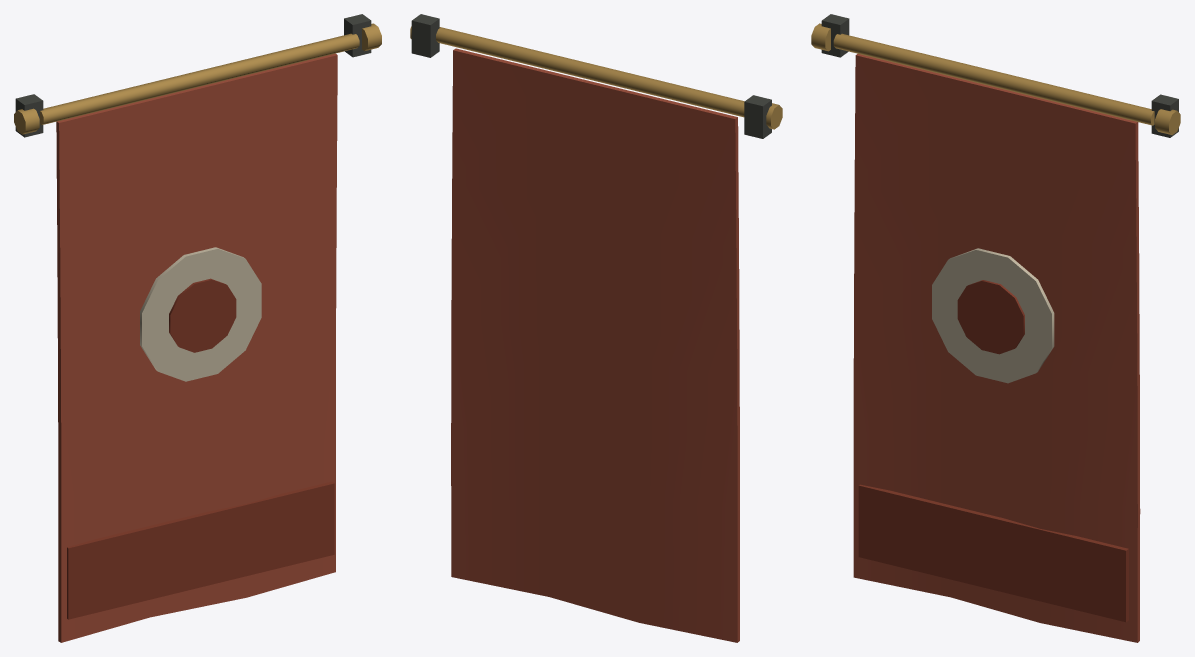
File: banner.glb
The picture shows the model from 3 angles, left to right: view 1: azimuth 30°, elevation 25°; view 2: azimuth 150°, elevation 25°; view 3: azimuth 330°, elevation 25°; orthographic projection.
Visible parts, largest first — view 1: banner; view 2: banner; view 3: banner.
Boxes of the visible parts, x1,y1,x2,y2 form: banner: (14, 14, 381, 642); banner: (410, 14, 782, 642); banner: (811, 14, 1180, 642).
Bounding box in the file's own units: 1.15 × 1.68 × 0.0823.
